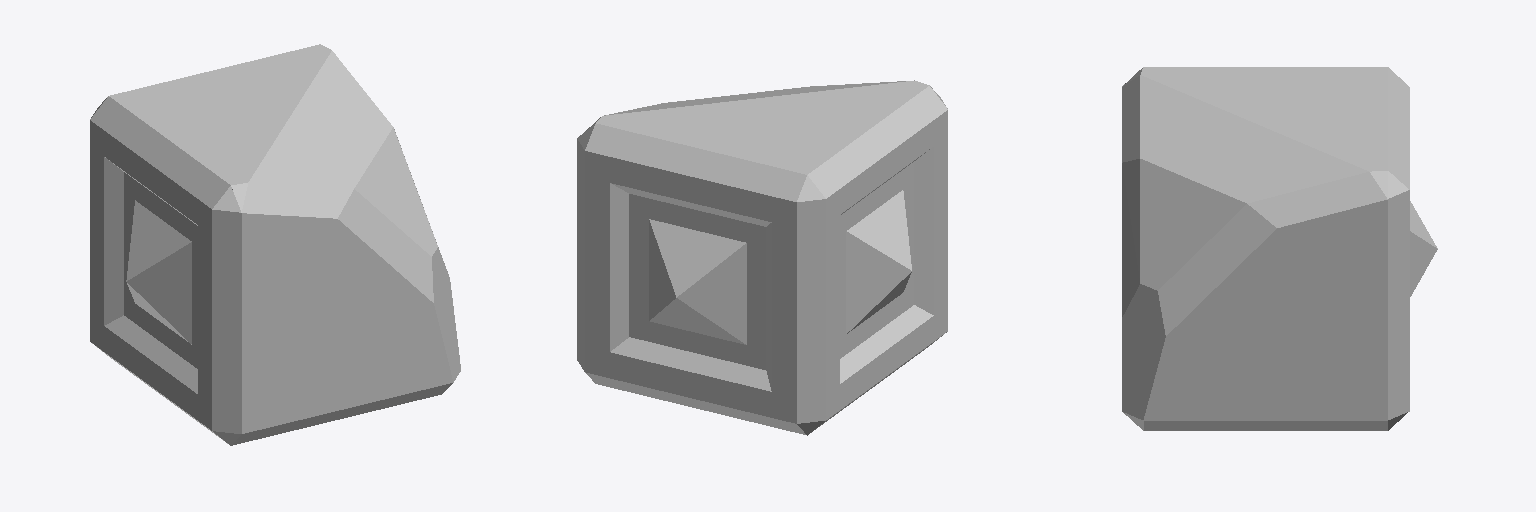
Rendered from IEC Short Inverted Corner Slope.obj.
The picture shows the model from 3 angles: view 1: azimuth 30°, elevation 25°; view 2: azimuth 150°, elevation 25°; view 3: azimuth 270°, elevation 25°; orthographic projection.
Parts seen in each view (by area): view 1: IEC_Short_Inverted_Corner_Slope_Cube.004; view 2: IEC_Short_Inverted_Corner_Slope_Cube.004; view 3: IEC_Short_Inverted_Corner_Slope_Cube.004.
Boxes of the visible parts, x1,y1,x2,y2 form: IEC_Short_Inverted_Corner_Slope_Cube.004: [90, 44, 460, 445]; IEC_Short_Inverted_Corner_Slope_Cube.004: [577, 80, 947, 435]; IEC_Short_Inverted_Corner_Slope_Cube.004: [1122, 67, 1437, 430].
Bounding box in the file's own units: 1.1 × 1.1 × 1.1.